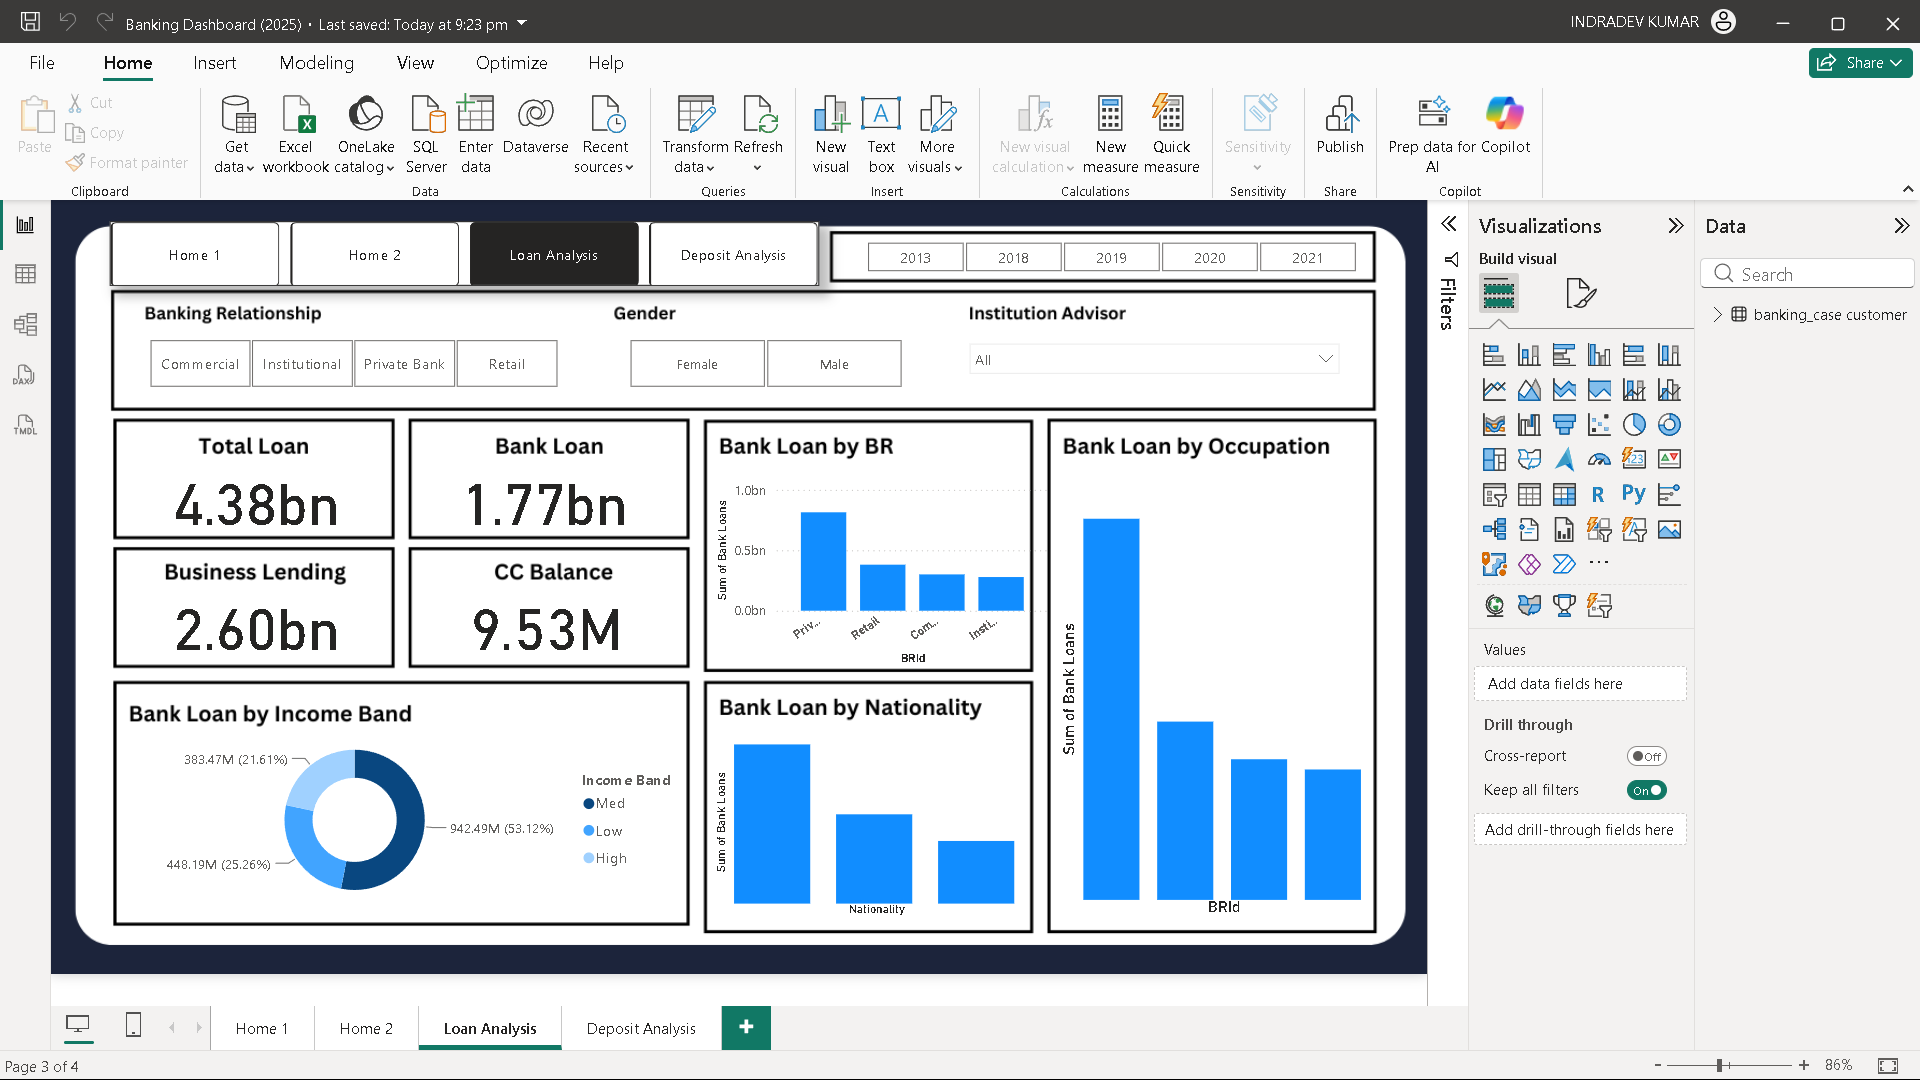

The dashboard page shown, as its layout file describes it:
{"tool":"powerbi","page":{"name":"Loan Analysis","canvas":[1280,720],"ordinal":2},"visuals":[{"type":"slicer","fields":{"Values":["banking_case customer.Year of Joining"]},"box":[733.3,32.2,504.1,34.9],"z":0},{"type":"actionButton","box":[36.4,31.7,99.7,39.6],"z":1000},{"type":"card","fields":{"Values":["banking_case customer.Total Loan"]},"box":[100.9,243.7,179.5,65.5],"z":4000},{"type":"card","fields":{"Values":["Sum(banking_case customer.Bank Loans)"]},"box":[369.5,243.7,179.5,65.5],"z":5000},{"type":"card","fields":{"Values":["Sum(banking_case customer.Business Lending)"]},"box":[100.9,360.4,179.5,65.5],"z":6000},{"type":"card","fields":{"Values":["Sum(banking_case customer.Credit Card Balance)"]},"box":[370.8,360.4,179.5,65.5],"z":7000},{"type":"donutChart","fields":{"Category":["banking_case customer.Income Band"],"Y":["Sum(banking_case customer.Bank Loans)"]},"box":[66.8,488.8,530.7,176.9],"z":8000},{"type":"clusteredColumnChart","fields":{"Category":["banking_case customer.BRId"],"Y":["Sum(banking_case customer.Bank Loans)"]},"box":[613.8,256.2,320,181.2],"z":9000},{"type":"clusteredColumnChart","fields":{"Category":["banking_case customer.Nationality"],"Y":["Sum(banking_case customer.Bank Loans)"]},"box":[613.3,488.8,293.5,182.1],"z":10000},{"type":"clusteredColumnChart","fields":{"Category":["banking_case customer.BRId"],"Y":["Sum(banking_case customer.Bank Loans)"]},"box":[933.7,245.3,292.8,425.7],"z":11000},{"type":"slicer","fields":{"Values":["banking_case customer.BRId"]},"box":[66.8,123.2,428.5,57.7],"z":12000},{"type":"slicer","fields":{"Values":["banking_case customer.GenderId"]},"box":[512.4,123.2,302.7,57.7],"z":13000},{"type":"slicer","fields":{"Values":["banking_case customer.IAId"]},"box":[843.9,123.2,364.3,57.7],"z":14000},{"type":"pageNavigator","box":[55,20,660,60],"z":14001}]}

Visuals, with their boxes on the page's 1280x720 design canvas (x1, y1, x2, y2). These are canvas units, not pixel positions in the 1920x1080 screenshot, which may show the page scaled, cropped or inside an application window:
slicer - banking_case customer.Year of Joining: pyautogui.locateOnScreen(733, 32, 1237, 67)
actionButton: pyautogui.locateOnScreen(36, 32, 136, 71)
card - banking_case customer.Total Loan: pyautogui.locateOnScreen(101, 244, 280, 309)
card - Sum(banking_case customer.Bank Loans): pyautogui.locateOnScreen(370, 244, 549, 309)
card - Sum(banking_case customer.Business Lending): pyautogui.locateOnScreen(101, 360, 280, 426)
card - Sum(banking_case customer.Credit Card Balance): pyautogui.locateOnScreen(371, 360, 550, 426)
donutChart - banking_case customer.Income Band x Sum(banking_case customer.Bank Loans): pyautogui.locateOnScreen(67, 489, 598, 666)
clusteredColumnChart - banking_case customer.BRId x Sum(banking_case customer.Bank Loans): pyautogui.locateOnScreen(614, 256, 934, 437)
clusteredColumnChart - banking_case customer.Nationality x Sum(banking_case customer.Bank Loans): pyautogui.locateOnScreen(613, 489, 907, 671)
clusteredColumnChart - banking_case customer.BRId x Sum(banking_case customer.Bank Loans): pyautogui.locateOnScreen(934, 245, 1226, 671)
slicer - banking_case customer.BRId: pyautogui.locateOnScreen(67, 123, 495, 181)
slicer - banking_case customer.GenderId: pyautogui.locateOnScreen(512, 123, 815, 181)
slicer - banking_case customer.IAId: pyautogui.locateOnScreen(844, 123, 1208, 181)
pageNavigator: pyautogui.locateOnScreen(55, 20, 715, 80)
